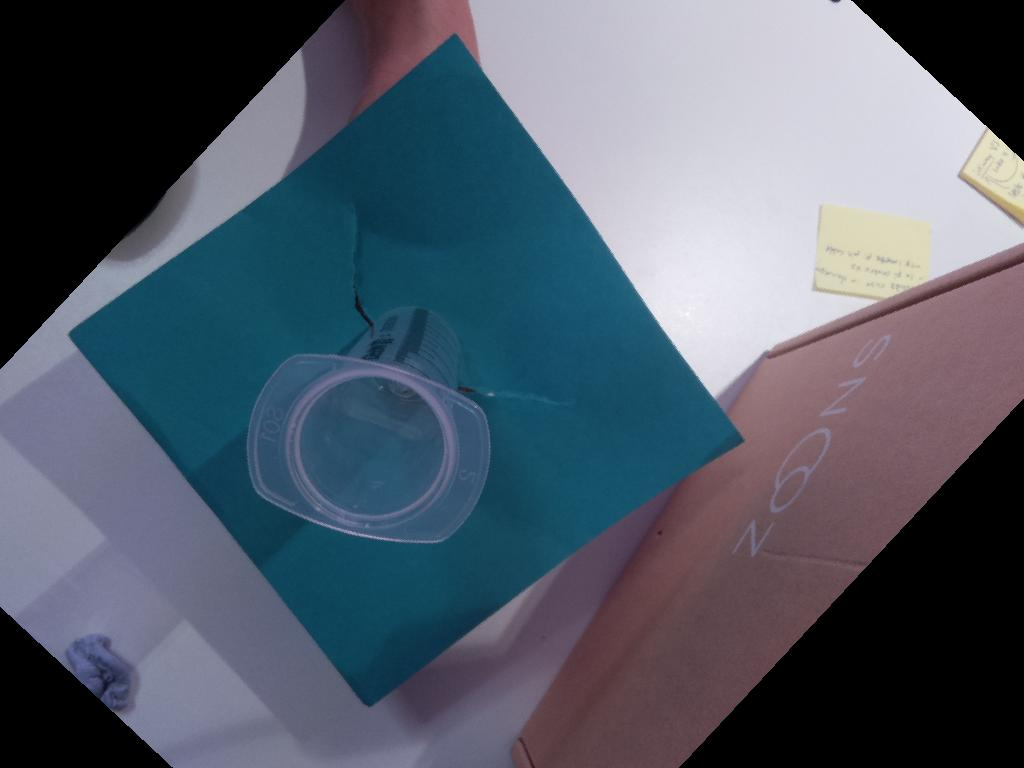clean: (245, 351, 494, 547)
